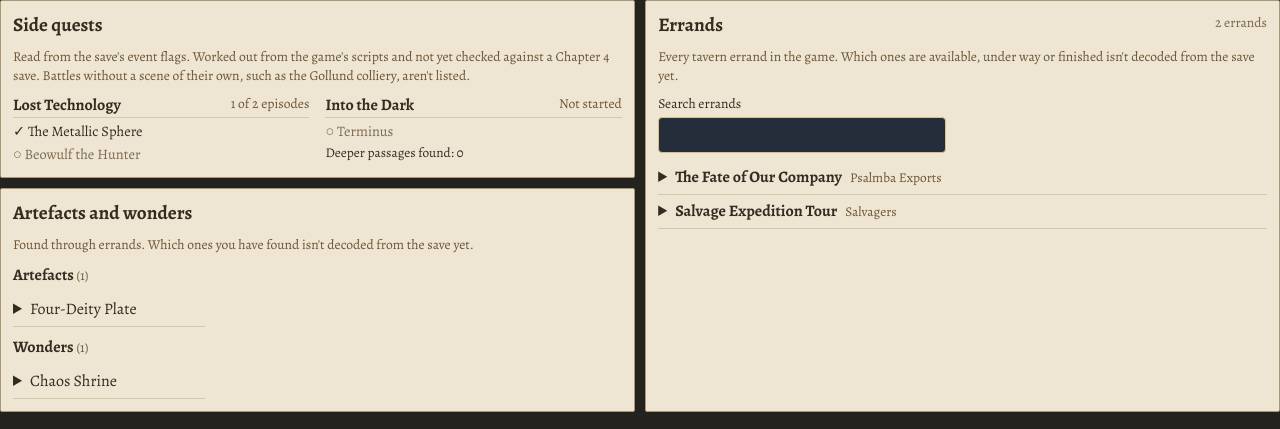
it: lists and searches errands, artefacts and wonders
Expected: the text "2 errands" is shown, [1215,13,1267,33]
Type "psalmba" into the search field at (802, 135), box [658,117,946,153]
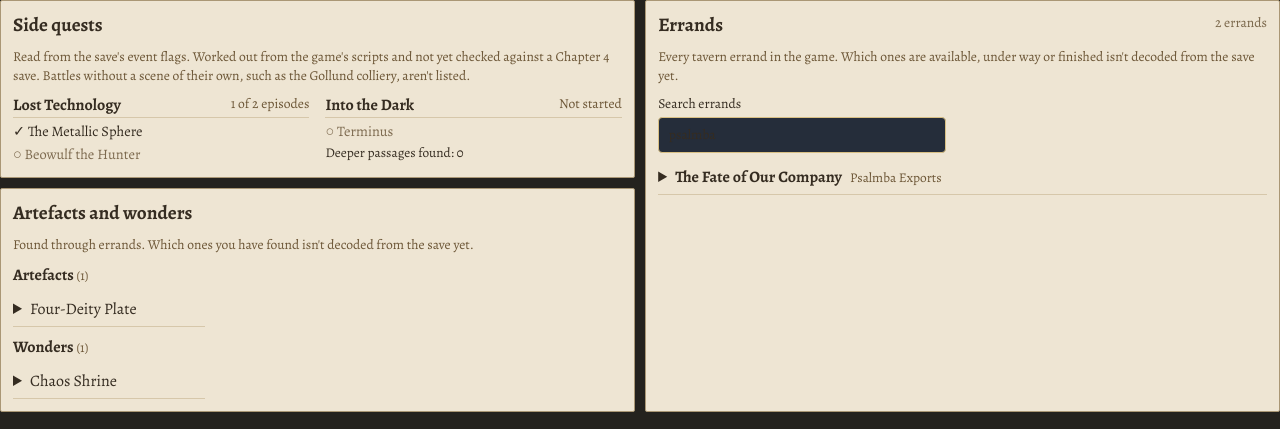
Expected: the text "The Fate of Our Company" is shown, [675,166,842,188]
Now the heading "Salvage Expedition Tour" is gone
